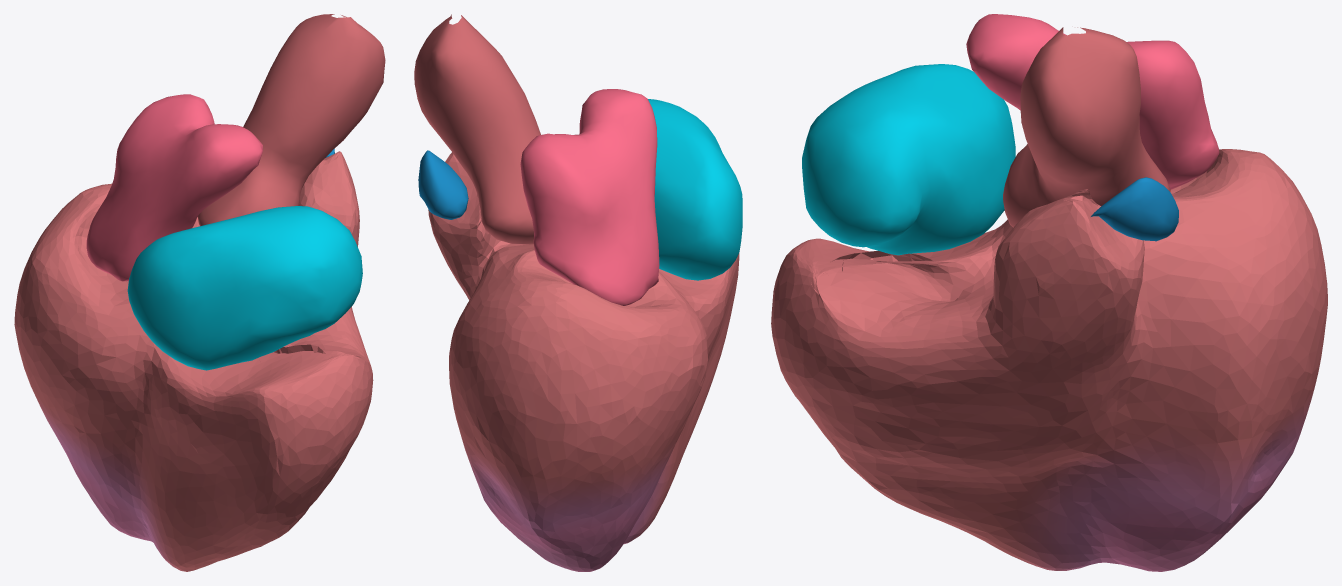
The model's file is frame_41.glb.
The picture shows the model from 3 angles, left to right: view 1: azimuth 30°, elevation 25°; view 2: azimuth 150°, elevation 25°; view 3: azimuth 270°, elevation 25°; orthographic projection. The views are drawn at different scales.
Visible parts, largest first — view 1: Renderer Node; view 2: Renderer Node; view 3: Renderer Node.
Boxes of the visible parts, bbox=[...] form: Renderer Node: bbox=[14, 14, 385, 571]; Renderer Node: bbox=[414, 14, 742, 571]; Renderer Node: bbox=[771, 14, 1327, 571].
Bounding box in the file's own units: 102 × 159 × 125.
